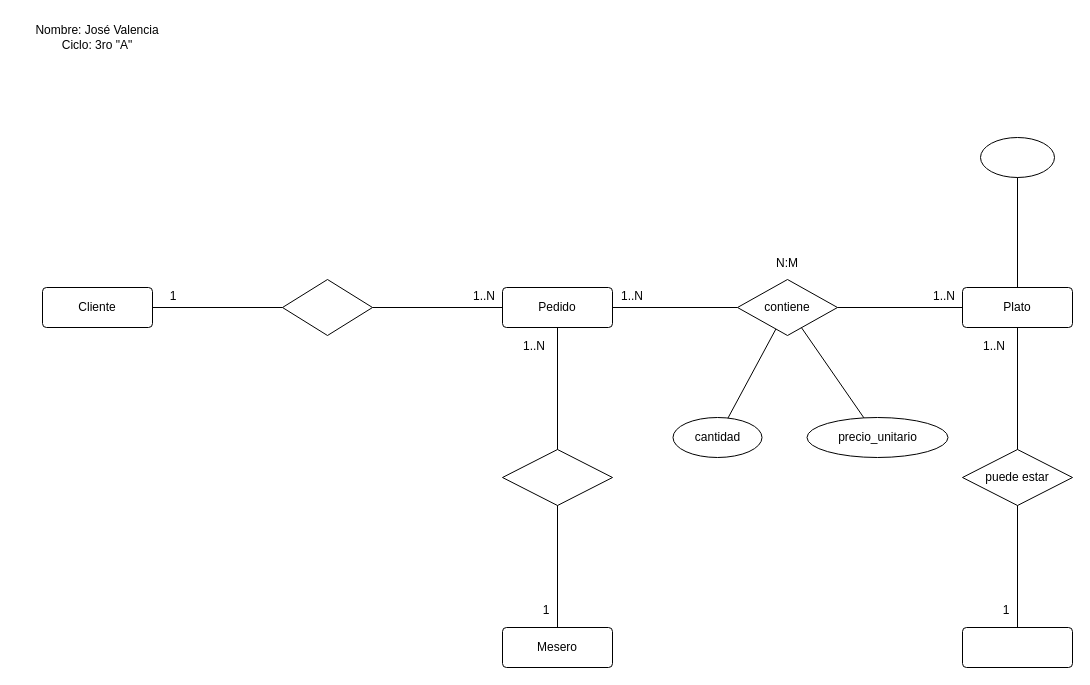
Some shapes in this 1090 by 685 pixel diagram are drawn without their labels. Here are the shapes that lost their labels. From the top down, the box of each, then its label:
(980, 136, 1054, 178): precio
(282, 278, 372, 336): hace
(502, 448, 612, 506): es atendido
(962, 626, 1072, 668): Categoría
